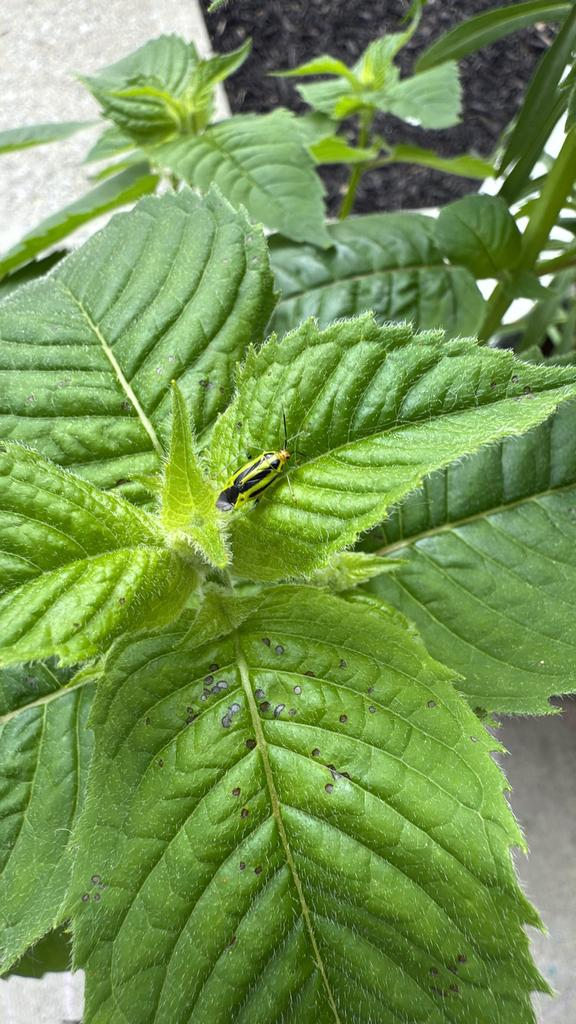plant_bugs: (199, 391, 314, 536)
